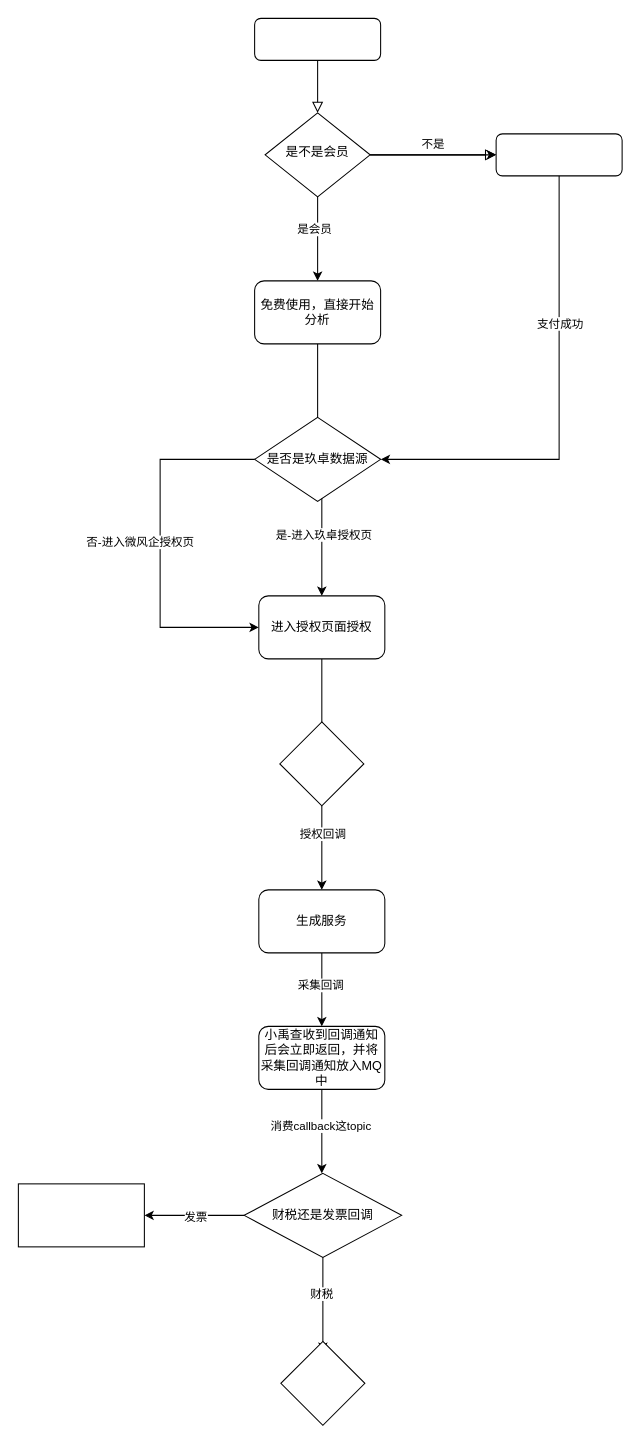
Some shapes in this 641 by 1444 pixel diagram are drawn without their labels. The centre of each missing label's shape, as x and y in pixels:
"发票处理逻辑" belongs at [80,1215].
"授权是否成功" belongs at [321,763].
"点击选择AI模型分析" belongs at [317,38].
"调起微信支付付款" belongs at [558,154].
